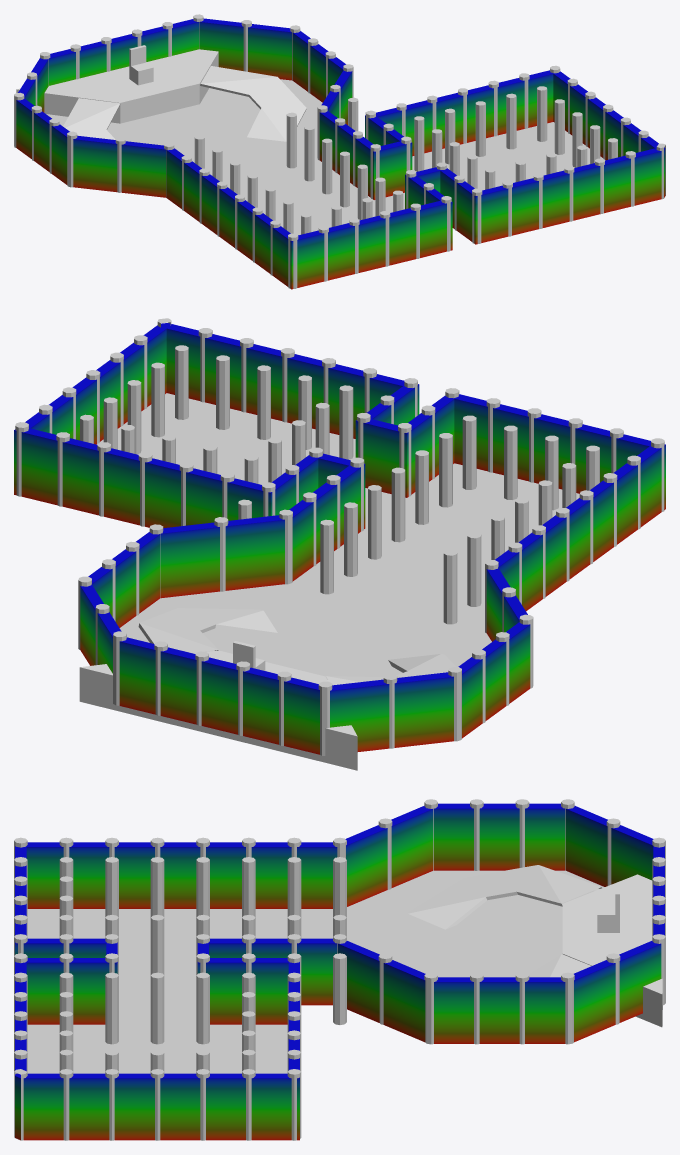
File: CathedralBoxEdit 2.fbx
The picture shows the model from 3 angles, top to bottom: view 1: azimuth 30°, elevation 25°; view 2: azimuth 150°, elevation 25°; view 3: azimuth 270°, elevation 25°; orthographic projection. The views are drawn at different scales.
Parts seen in each view (by area): view 1: wall_base, pillars, stairs, throne; view 2: wall_base, pillars, stairs; view 3: wall_base, pillars, stairs, throne.
Part boxes in pixels (bbox=[...]): wall_base: bbox=[16, 18, 665, 289]; pillars: bbox=[14, 14, 665, 288]; stairs: bbox=[16, 49, 306, 141]; throne: bbox=[129, 45, 153, 85]; wall_base: bbox=[14, 323, 665, 754]; pillars: bbox=[15, 318, 664, 755]; stairs: bbox=[79, 608, 456, 770]; wall_base: bbox=[15, 803, 664, 1140]; pillars: bbox=[14, 799, 665, 1140]; stairs: bbox=[408, 865, 662, 1027]; throne: bbox=[597, 884, 619, 932].
Size of the model in its own units: 14.3 by 1.76 by 14.3.
